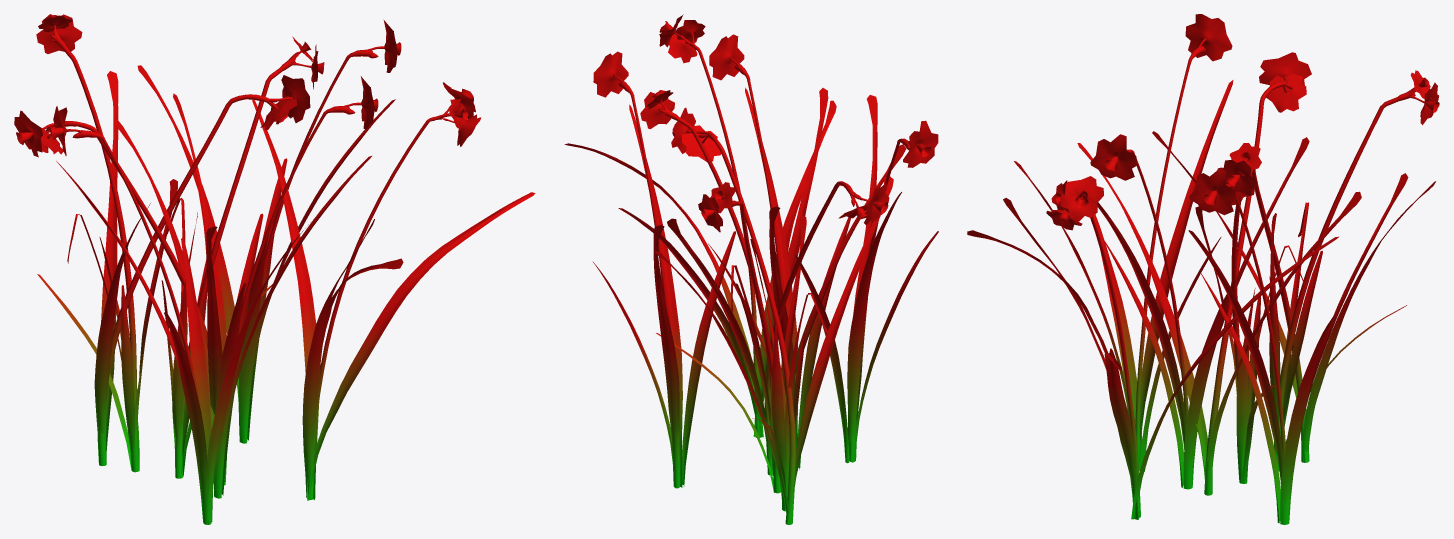
Rendered from Rush Daffodil_LOD0_Var11_wftgfjaia.fbx.
3 views of the same model, side by side, from view 1: azimuth 30°, elevation 25°; view 2: azimuth 150°, elevation 25°; view 3: azimuth 270°, elevation 25° (orthographic). The views are drawn at different scales.
Visible parts, largest first — view 1: _q7zc_var11_LOD0; view 2: _q7zc_var11_LOD0; view 3: _q7zc_var11_LOD0.
Boxes of the visible parts, x1=… form: _q7zc_var11_LOD0: x1=14, y1=14, x2=535, y2=524; _q7zc_var11_LOD0: x1=564, y1=14, x2=938, y2=524; _q7zc_var11_LOD0: x1=967, y1=14, x2=1439, y2=524.
Bounding box in the file's own units: 38.86 × 35.3 × 37.26.
